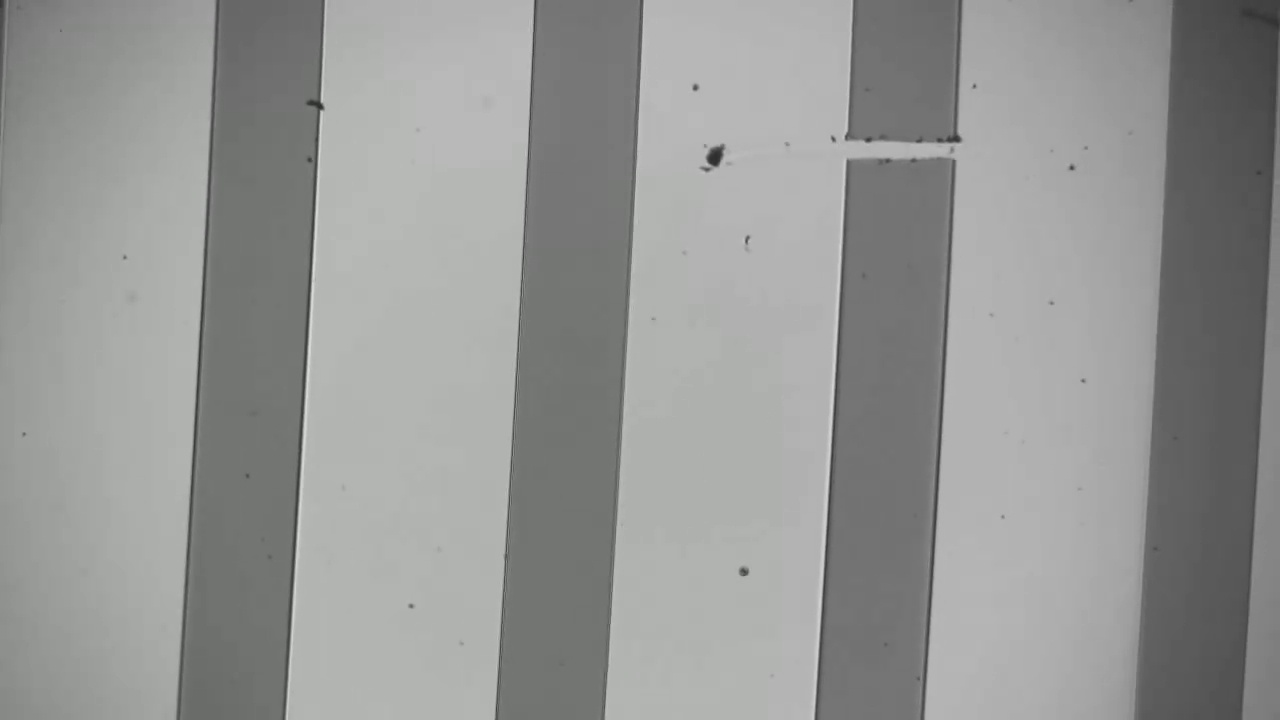Short_circuit: (819, 116, 976, 185)
